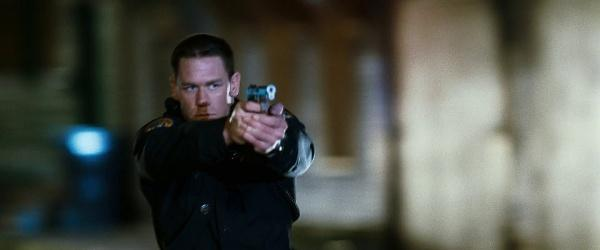Gun: (245, 84, 278, 111)
